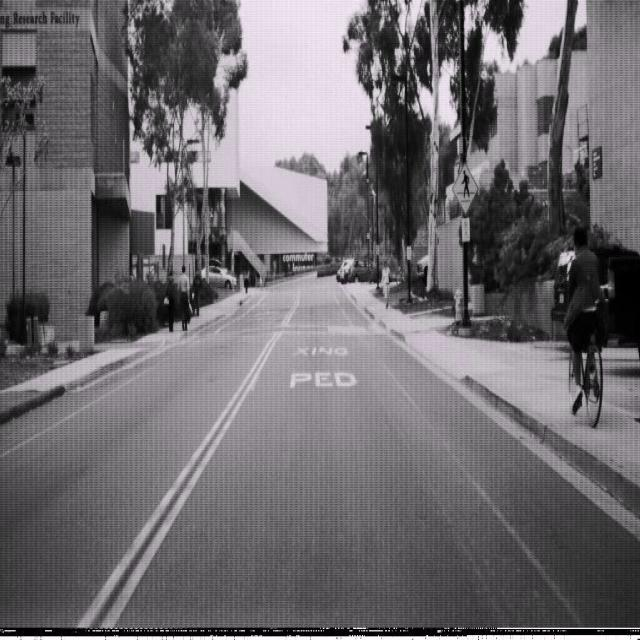pedestrianCrossing: (451, 162, 479, 214)
